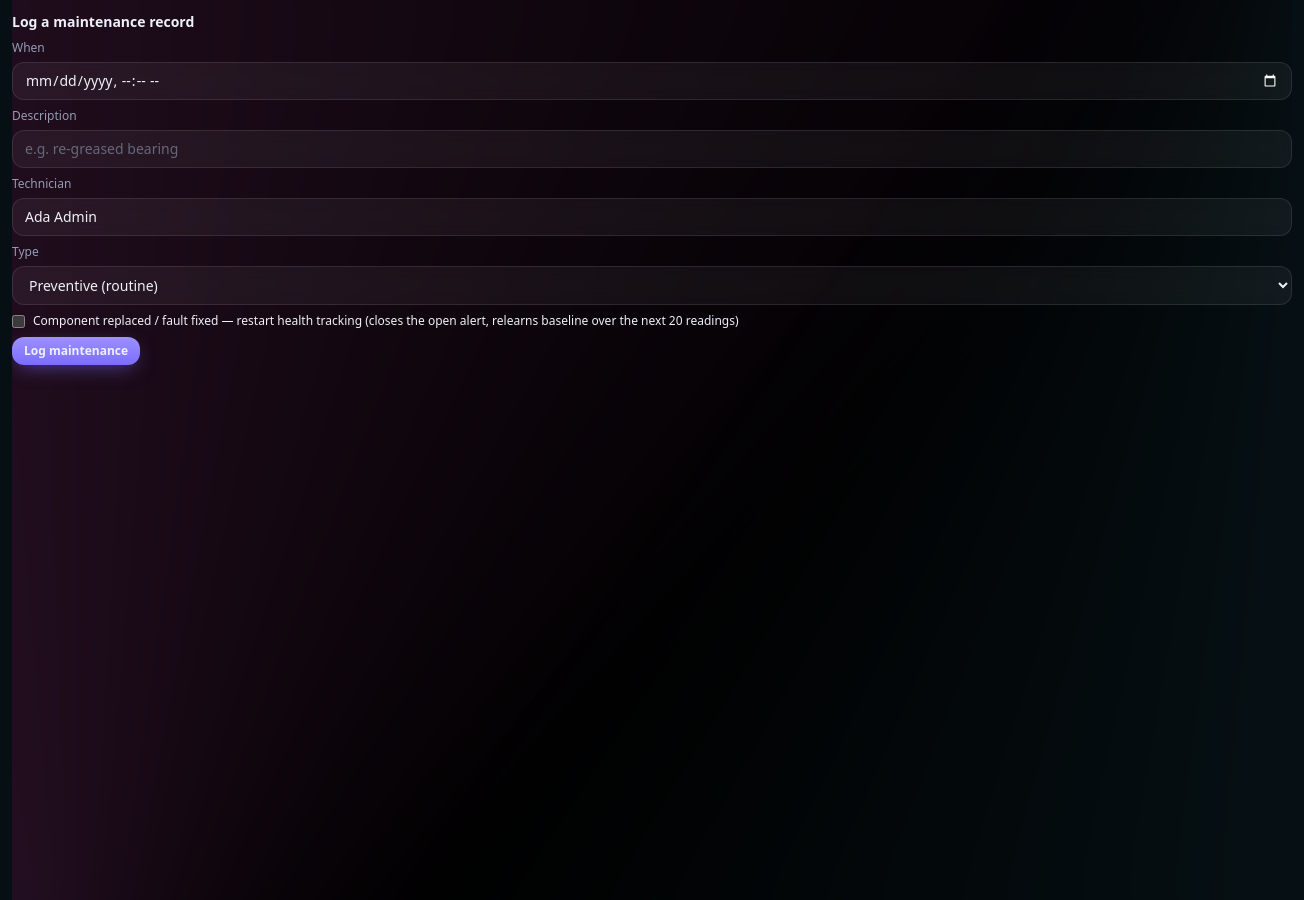
Test: MaintenanceForm › shows a success message after a successful submit
Type "2026-07-20T10:00" into the field labelled "When" at (652, 81), box [12,62,1292,100]
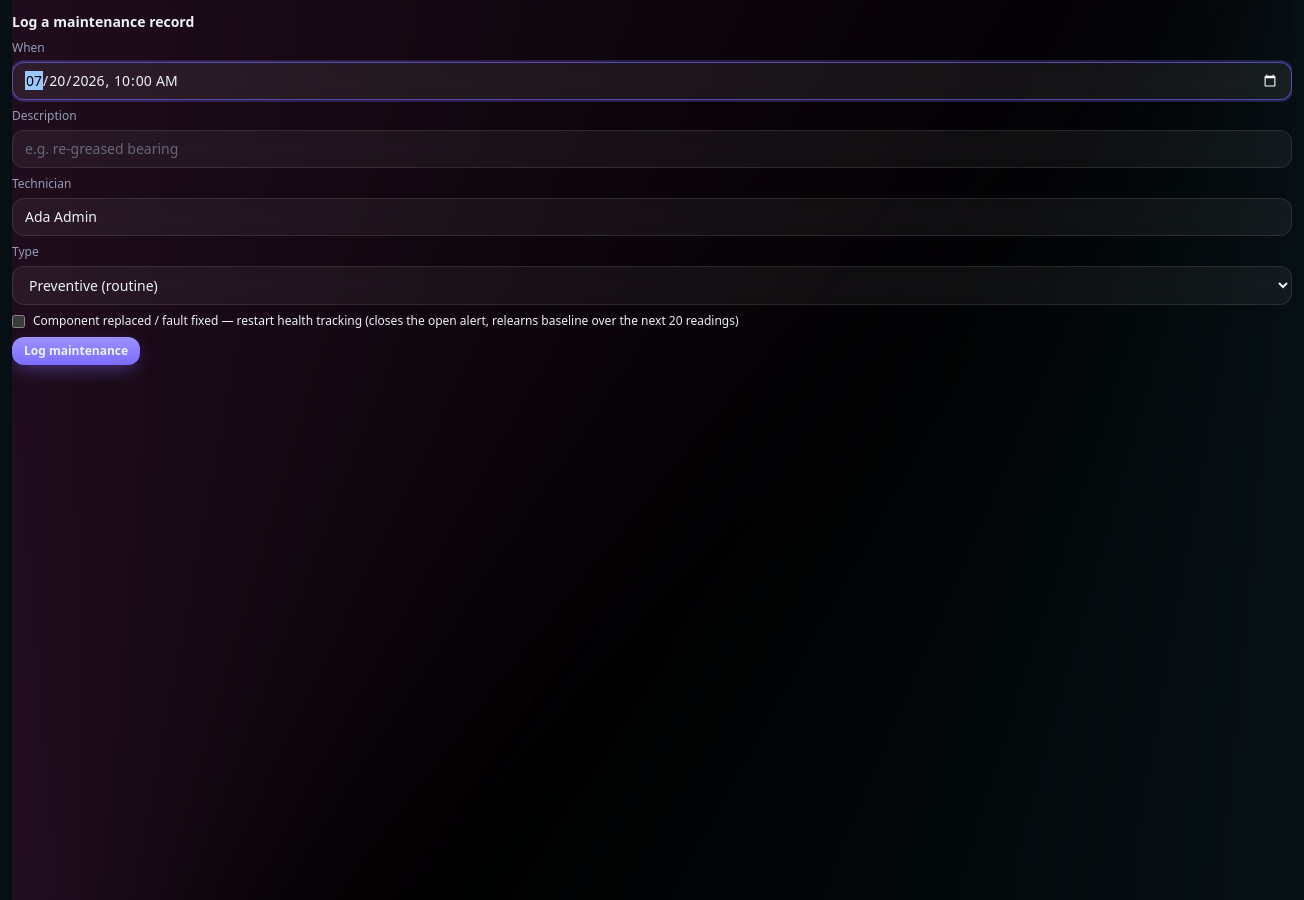
Click the button "Log maintenance" at (76, 351), box [12,337,140,365]
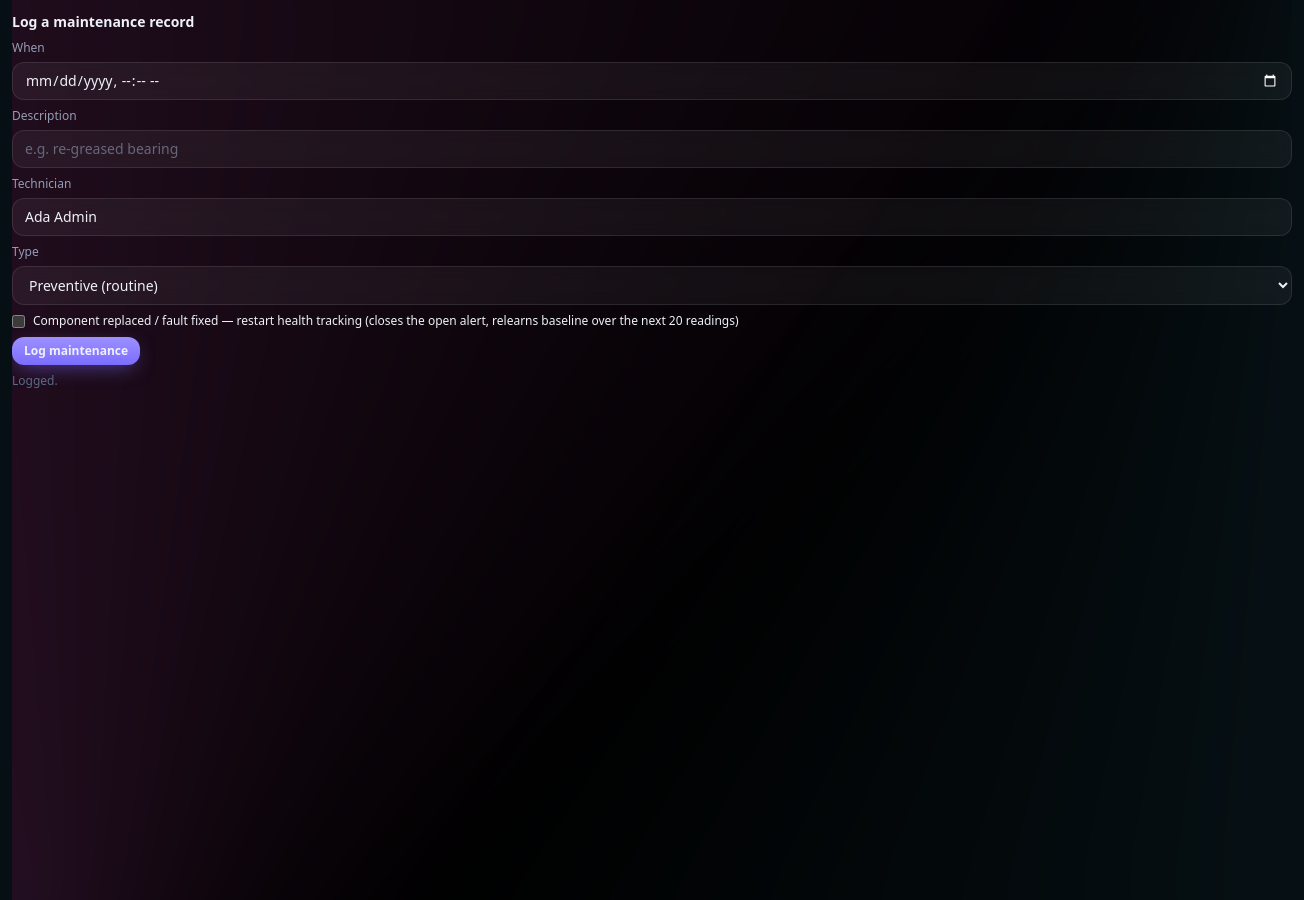
Expected: the text "Logged." is shown, [12,372,58,389]
